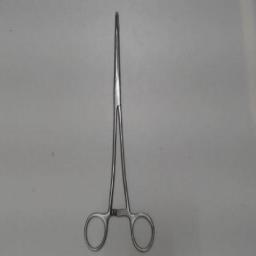Lahey Forceps: (82, 8, 156, 254)
